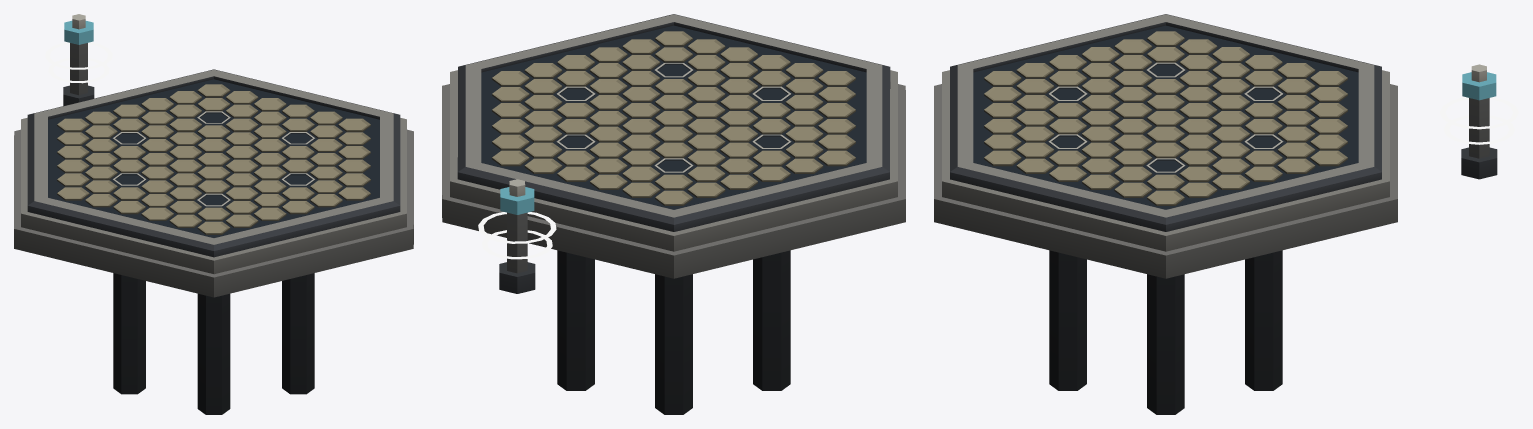
The model's file is scene_ballast_slab.glb.
3 renders of one model, left to right at view 1: azimuth 30°, elevation 25°; view 2: azimuth 150°, elevation 25°; view 3: azimuth 270°, elevation 25°, orthographic. The views are drawn at different scales.
Parts seen in each view (by area): view 1: scene_ballast_slab, scene_ballast_pillar_4, scene_ballast_pillar_3, scene_ballast_pillar_5, scene_ballast_prop_core, scene_ballast_corering_1; view 2: scene_ballast_slab, scene_ballast_pillar_2, scene_ballast_pillar_1, scene_ballast_pillar_3, scene_ballast_prop_core, scene_ballast_corering_1, scene_ballast_cell_026, scene_ballast_cell_016, scene_ballast_cell_017, scene_ballast_cell_024, scene_ballast_cell_025, scene_ballast_cell_027 (+80 smaller); view 3: scene_ballast_slab, scene_ballast_pillar_0, scene_ballast_pillar_1, scene_ballast_pillar_5, scene_ballast_prop_core, scene_ballast_corering_1.
Boxes of the visible parts, bbox=[...] form: scene_ballast_slab: bbox=[14, 69, 413, 297]; scene_ballast_pillar_4: bbox=[197, 293, 230, 414]; scene_ballast_pillar_3: bbox=[113, 273, 145, 394]; scene_ballast_pillar_5: bbox=[282, 273, 314, 394]; scene_ballast_prop_core: bbox=[63, 14, 94, 105]; scene_ballast_corering_1: bbox=[45, 42, 112, 69]; scene_ballast_slab: bbox=[442, 14, 905, 278]; scene_ballast_pillar_2: bbox=[655, 274, 692, 414]; scene_ballast_pillar_1: bbox=[557, 250, 594, 390]; scene_ballast_pillar_3: bbox=[753, 250, 790, 390]; scene_ballast_prop_core: bbox=[499, 179, 535, 293]; scene_ballast_corering_1: bbox=[478, 212, 556, 243]; scene_ballast_cell_026: bbox=[655, 142, 692, 158]; scene_ballast_cell_016: bbox=[720, 142, 757, 158]; scene_ballast_cell_017: bbox=[687, 150, 725, 166]; scene_ballast_cell_024: bbox=[720, 126, 757, 142]; scene_ballast_cell_025: bbox=[687, 134, 725, 150]; scene_ballast_cell_027: bbox=[622, 150, 660, 166]; scene_ballast_slab: bbox=[934, 14, 1397, 278]; scene_ballast_pillar_0: bbox=[1147, 274, 1184, 414]; scene_ballast_pillar_1: bbox=[1245, 250, 1282, 390]; scene_ballast_pillar_5: bbox=[1049, 250, 1086, 390]; scene_ballast_prop_core: bbox=[1461, 64, 1497, 179]; scene_ballast_corering_1: bbox=[1440, 97, 1518, 129].
Bounding box in the file's own units: 14.21 × 8.55 × 15.52.
